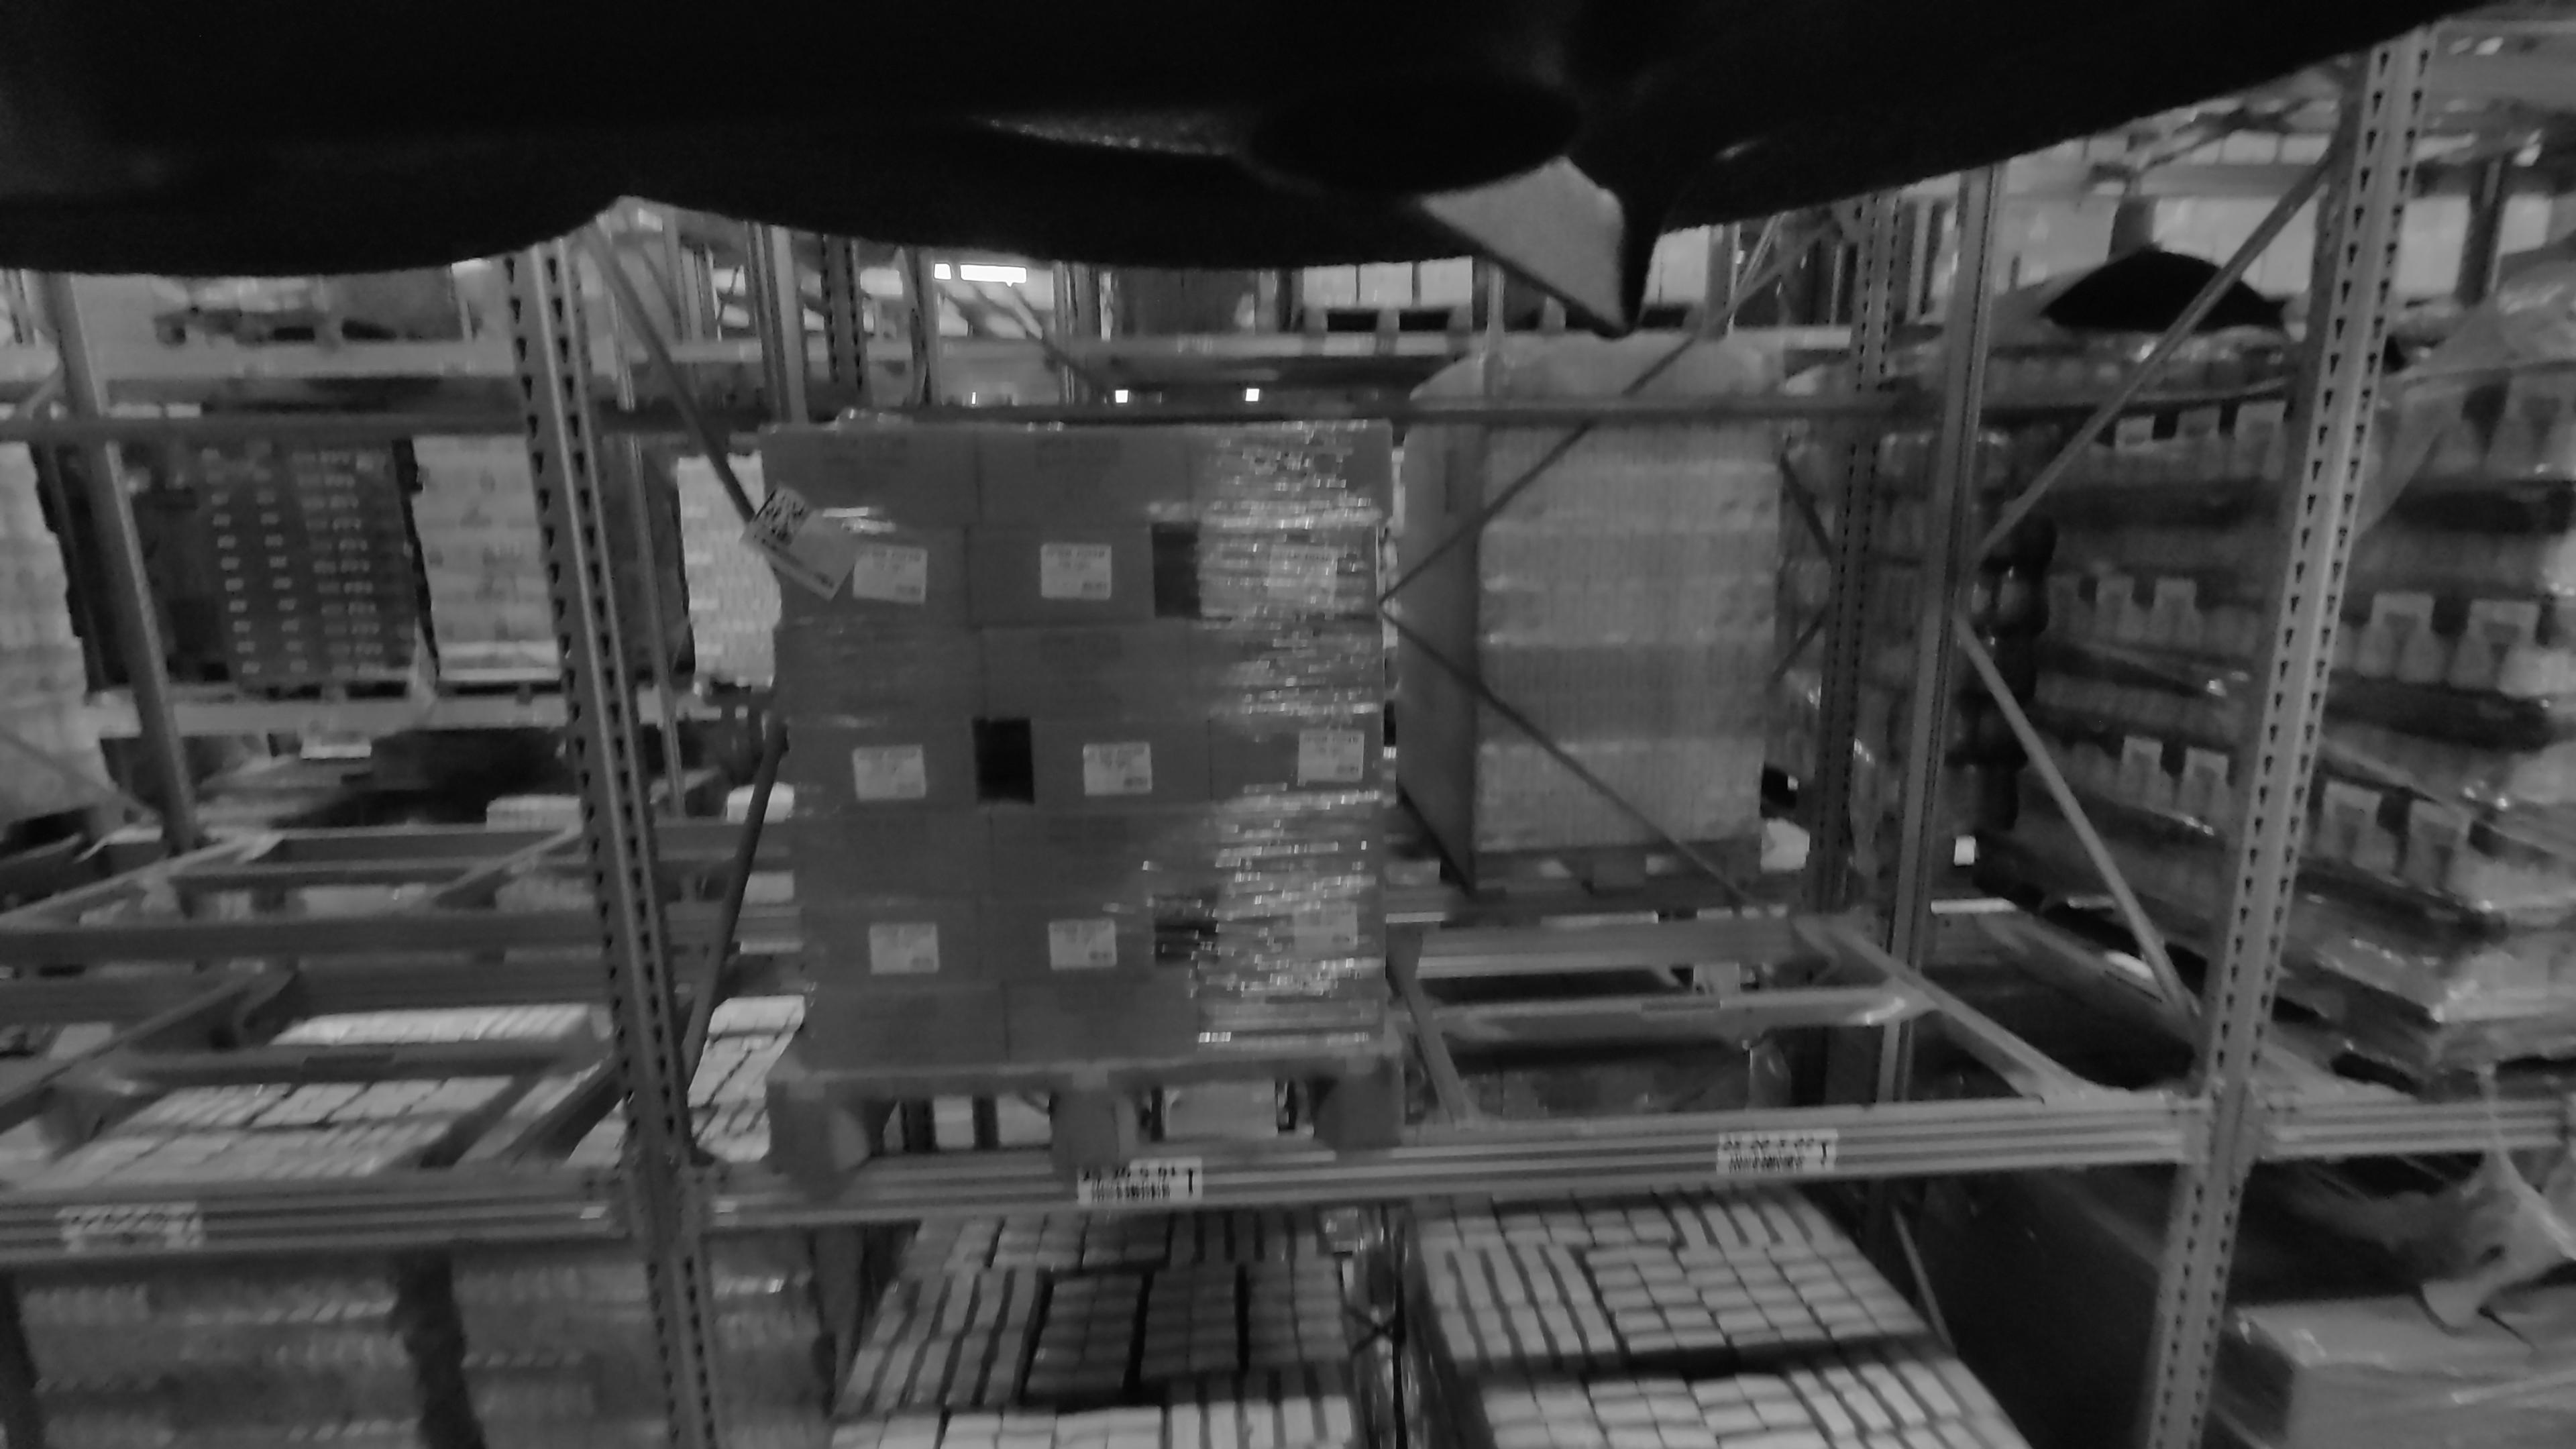empty-shelf: (1460, 209, 2070, 1116), (14, 253, 501, 1171), (32, 242, 425, 908), (644, 202, 778, 918)
